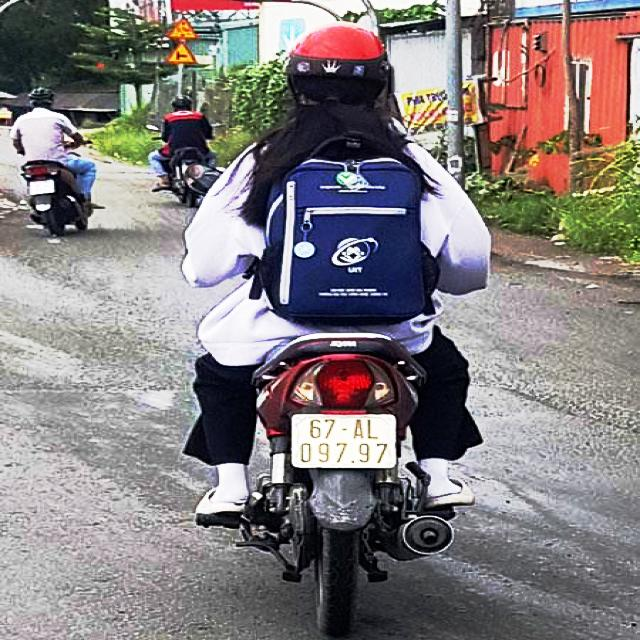license_plate: (294, 416, 396, 467), (32, 179, 55, 196)
